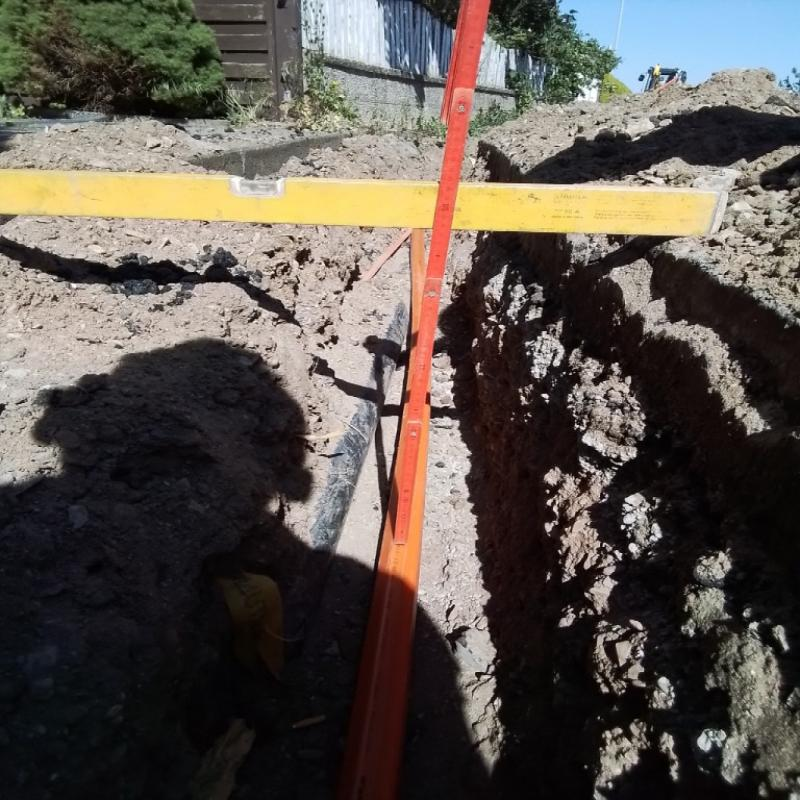Orang-Speednetrohrchen: (343, 392, 428, 800)
